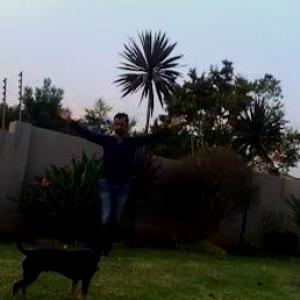takeoff: (59, 108, 193, 248)
